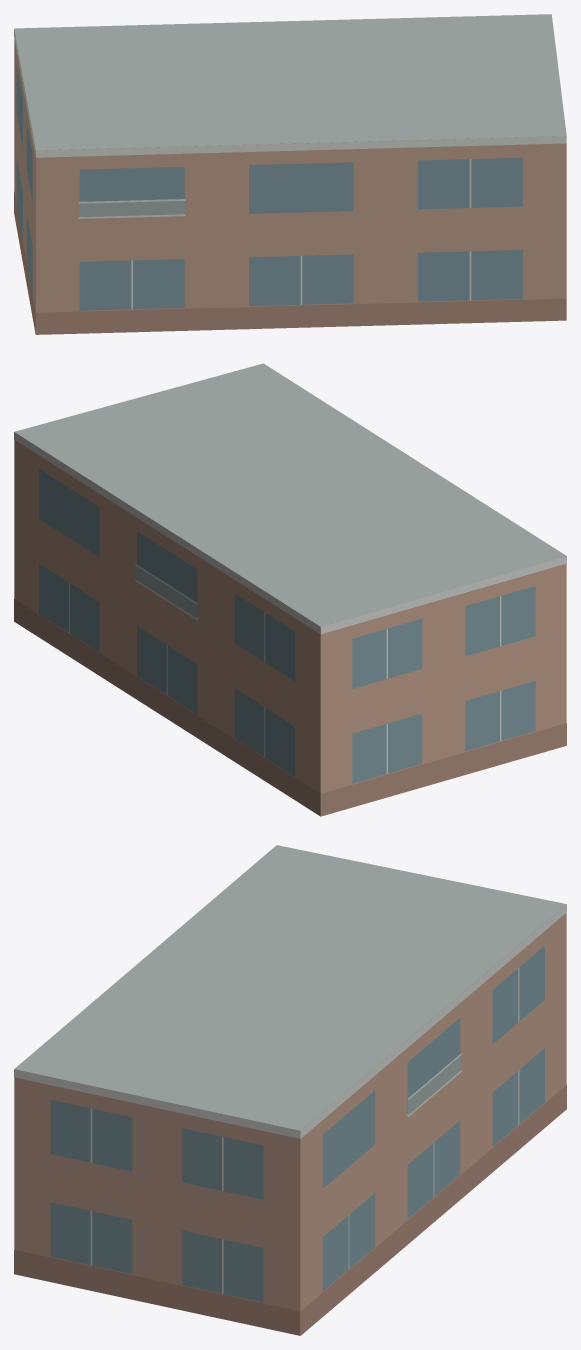
The model's file is survey-upis-32893926.glb.
3 renders of one model, top to bottom at view 1: azimuth 30°, elevation 25°; view 2: azimuth 150°, elevation 25°; view 3: azimuth 270°, elevation 25°, orthographic. The views are drawn at different scales.
Visible parts, largest first — view 1: survey-upis-32893926.tmp; view 2: survey-upis-32893926.tmp; view 3: survey-upis-32893926.tmp.
Boxes of the visible parts, left/top/right/bottom form: survey-upis-32893926.tmp: left=14, top=14, right=566, bottom=334; survey-upis-32893926.tmp: left=14, top=363, right=566, bottom=816; survey-upis-32893926.tmp: left=14, top=845, right=566, bottom=1335.
Size of the model in its own units: 18.24 by 6.1 by 14.91.
